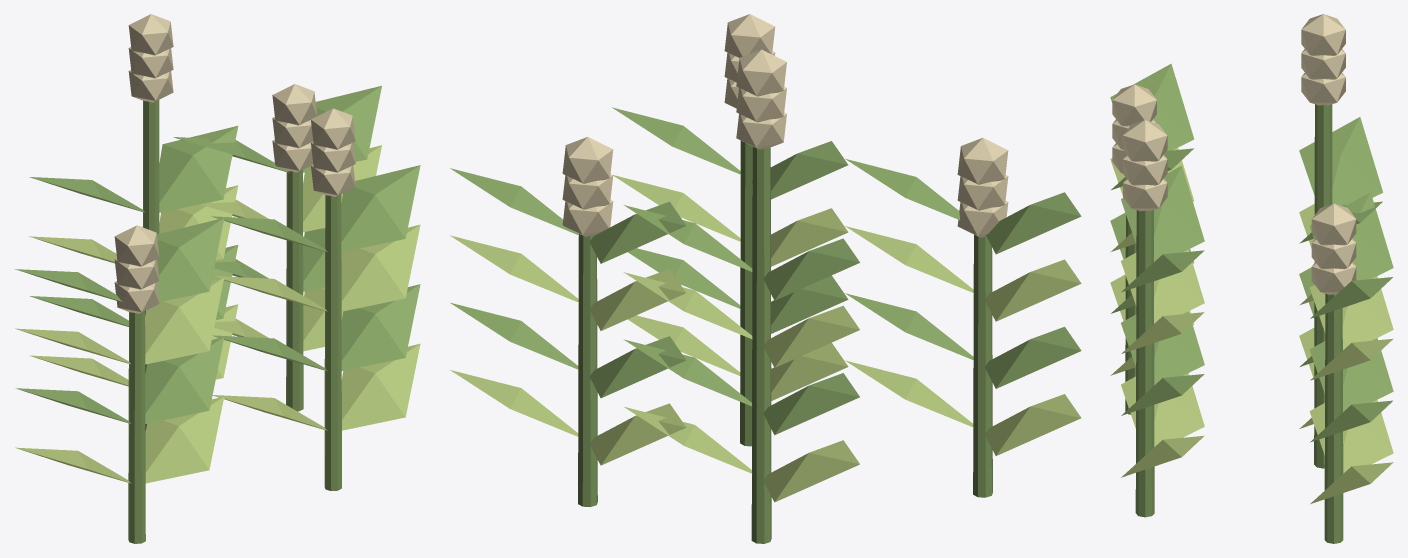
3 renders of one model, left to right at view 1: azimuth 30°, elevation 25°; view 2: azimuth 150°, elevation 25°; view 3: azimuth 270°, elevation 25°, orthographic. The views are drawn at different scales.
Visible parts, largest first — view 1: GF-005 Flowering culinary herbs batched; view 2: GF-005 Flowering culinary herbs batched; view 3: GF-005 Flowering culinary herbs batched.
Part boxes in pixels (bbox=[...]): GF-005 Flowering culinary herbs batched: bbox=[15, 14, 420, 543]; GF-005 Flowering culinary herbs batched: bbox=[450, 14, 1081, 543]; GF-005 Flowering culinary herbs batched: bbox=[1110, 14, 1393, 543].
Bounding box in the file's own units: 0.53 × 0.474 × 0.2702.
